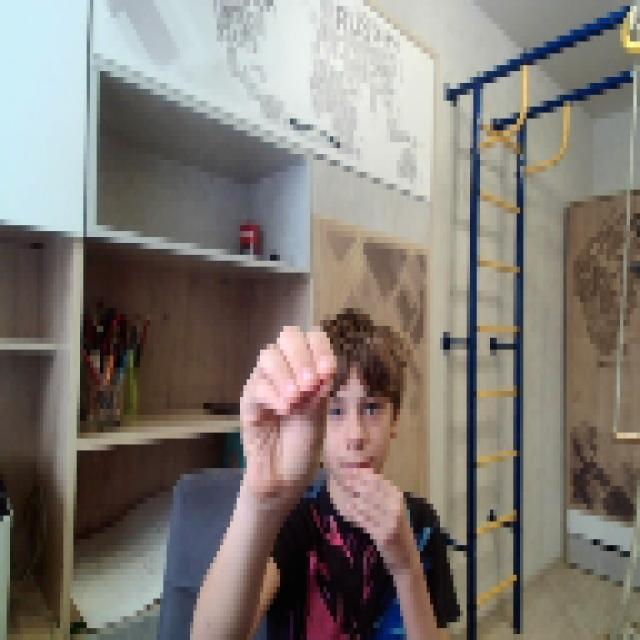left_click: (233, 314, 337, 498)
